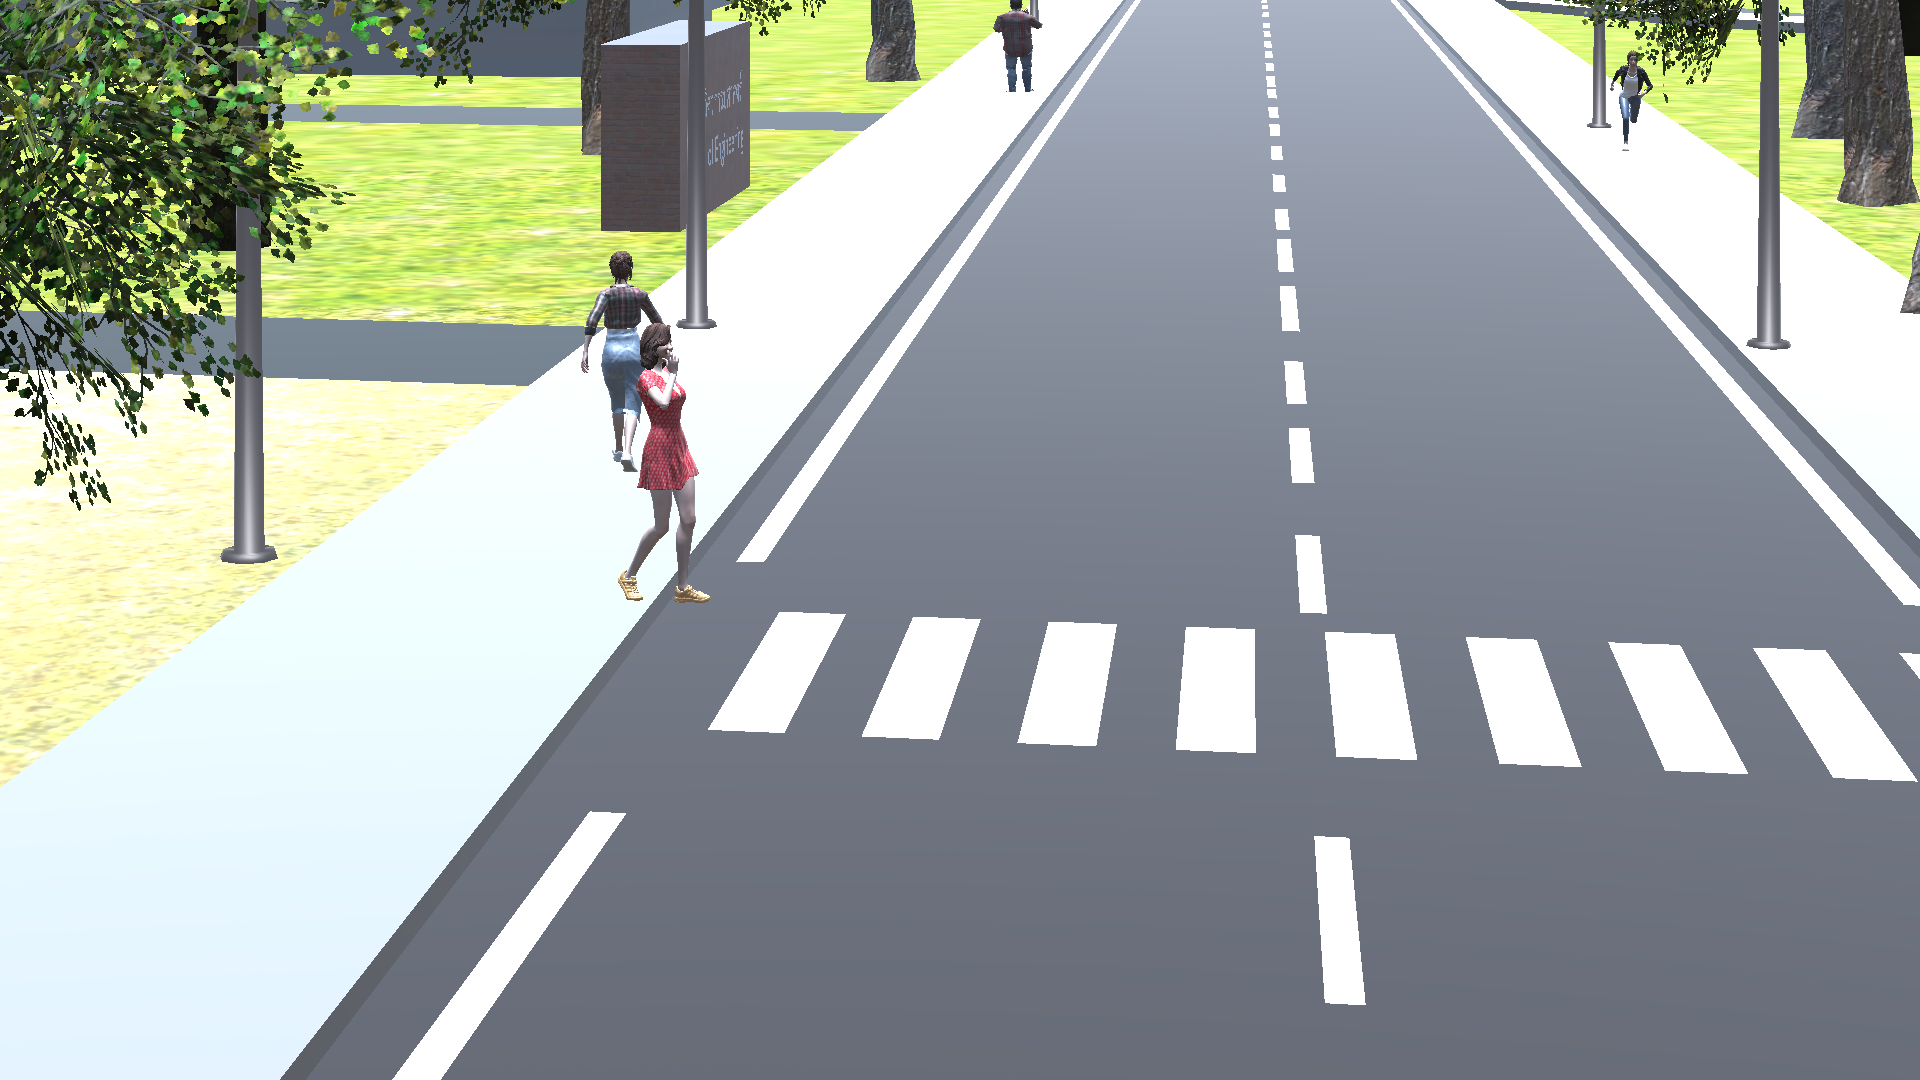pedestrian: (608, 311, 720, 626), (574, 243, 648, 475), (1598, 45, 1658, 158), (987, 1, 1046, 94)
